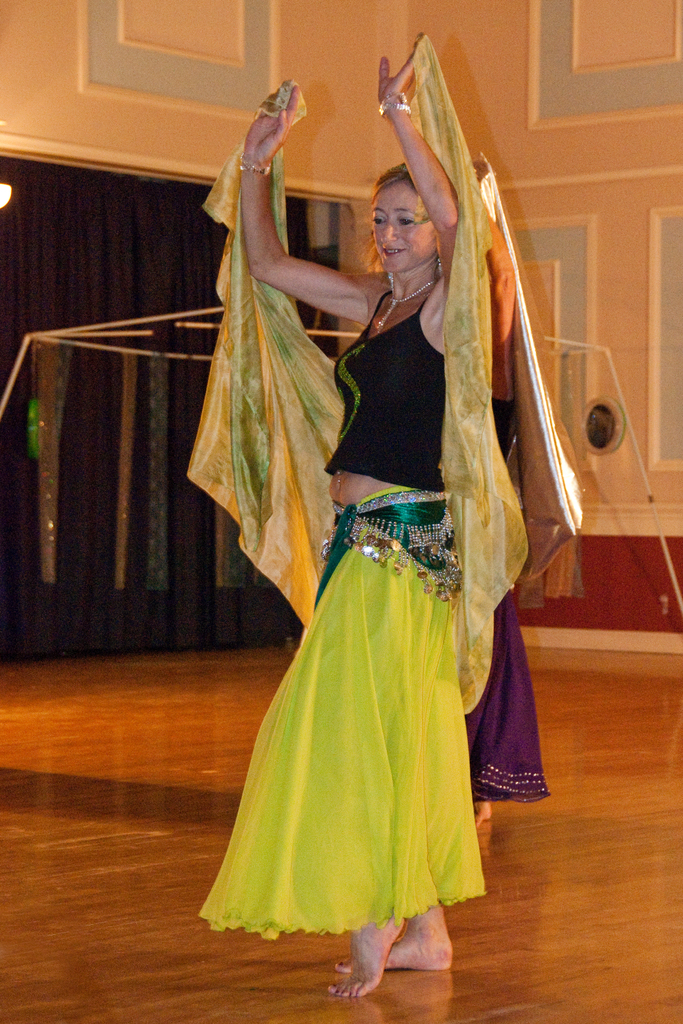Person: (474, 153, 585, 827)
